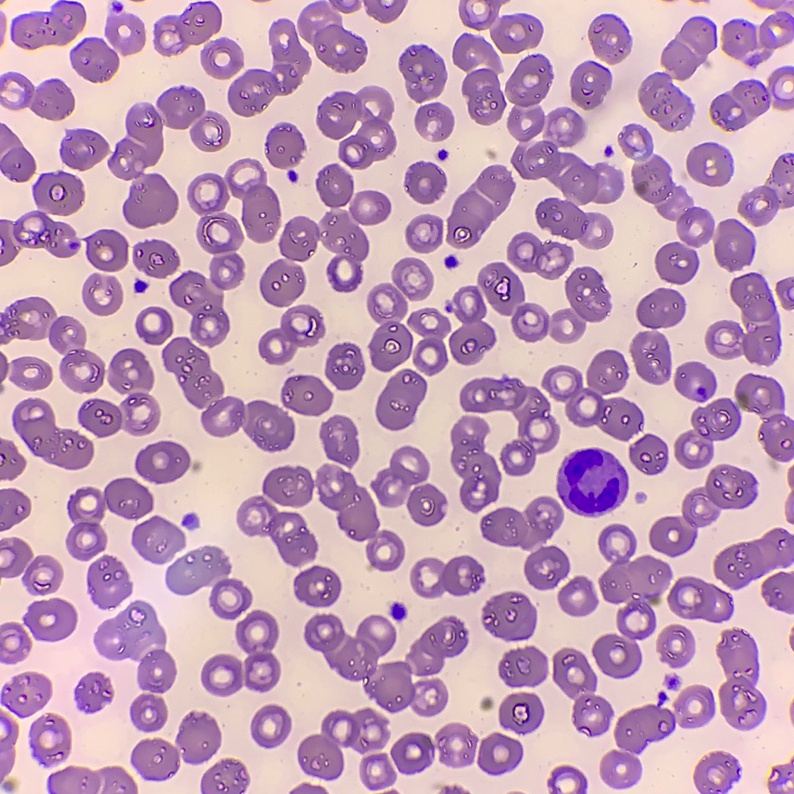RBC: (506, 55, 622, 248), (619, 125, 753, 283), (170, 159, 279, 345), (108, 89, 229, 227), (447, 263, 609, 364), (304, 615, 466, 715), (260, 191, 390, 306), (162, 337, 294, 450), (593, 524, 670, 677), (600, 685, 713, 788), (675, 375, 793, 468), (95, 601, 175, 730), (0, 297, 104, 391), (460, 378, 558, 475), (650, 465, 754, 555), (316, 465, 404, 570), (543, 350, 642, 440), (638, 17, 716, 130), (237, 466, 317, 565), (228, 20, 310, 116), (0, 172, 83, 264), (367, 258, 432, 371), (66, 478, 153, 559), (79, 349, 159, 436), (705, 273, 779, 364), (201, 610, 279, 695), (317, 86, 395, 168), (298, 709, 388, 778), (167, 546, 251, 619), (131, 712, 220, 779), (71, 2, 145, 81), (372, 447, 445, 525), (13, 399, 92, 469), (447, 165, 514, 247), (553, 648, 611, 735), (298, 0, 366, 72), (557, 449, 627, 516), (714, 529, 793, 588), (451, 416, 500, 511), (722, 0, 793, 65), (717, 629, 763, 729), (453, 34, 504, 124), (459, 0, 542, 53), (481, 497, 563, 549), (710, 80, 793, 130), (738, 154, 793, 225), (259, 305, 324, 364), (154, 2, 221, 55), (0, 538, 62, 594), (12, 1, 85, 48), (0, 75, 74, 119), (411, 556, 483, 597), (376, 370, 426, 429), (507, 233, 572, 278), (668, 577, 731, 622), (409, 308, 449, 374), (482, 592, 536, 640), (399, 46, 446, 101), (132, 516, 185, 562), (135, 441, 190, 483), (87, 556, 131, 608), (49, 767, 137, 793), (3, 672, 51, 716), (588, 14, 631, 63), (26, 598, 76, 640), (630, 332, 670, 383), (281, 375, 332, 415), (0, 124, 35, 181), (30, 715, 70, 764), (499, 646, 547, 686), (571, 61, 610, 110), (687, 143, 731, 186), (524, 546, 568, 589), (61, 129, 108, 169), (320, 416, 358, 465), (694, 751, 738, 793), (294, 566, 340, 606), (637, 288, 684, 327), (478, 733, 522, 773), (391, 733, 434, 773), (499, 693, 543, 732), (326, 344, 364, 389), (436, 724, 476, 766), (266, 123, 304, 167), (133, 240, 178, 277), (405, 162, 445, 203), (87, 230, 127, 271), (201, 39, 243, 78), (251, 705, 290, 747), (201, 759, 248, 793), (316, 164, 353, 207), (83, 275, 122, 315), (675, 362, 715, 401), (657, 625, 694, 667), (558, 577, 596, 615), (629, 435, 666, 474), (415, 103, 453, 140), (75, 673, 112, 711), (406, 215, 442, 252), (136, 307, 172, 344), (11, 357, 51, 389), (360, 753, 395, 789), (762, 573, 793, 613), (0, 489, 30, 530), (0, 623, 30, 663), (0, 723, 17, 791), (551, 766, 586, 793), (0, 440, 24, 479), (364, 0, 405, 22), (768, 764, 793, 793), (776, 277, 793, 308), (293, 784, 325, 793), (390, 603, 404, 618), (771, 69, 787, 81), (0, 355, 8, 379), (441, 786, 462, 793), (0, 15, 5, 32), (445, 257, 454, 266), (482, 699, 491, 708), (788, 469, 793, 485), (185, 514, 195, 522), (549, 786, 560, 793), (136, 283, 144, 292), (787, 512, 793, 522), (789, 496, 793, 504), (0, 712, 4, 720), (788, 788, 793, 793)
